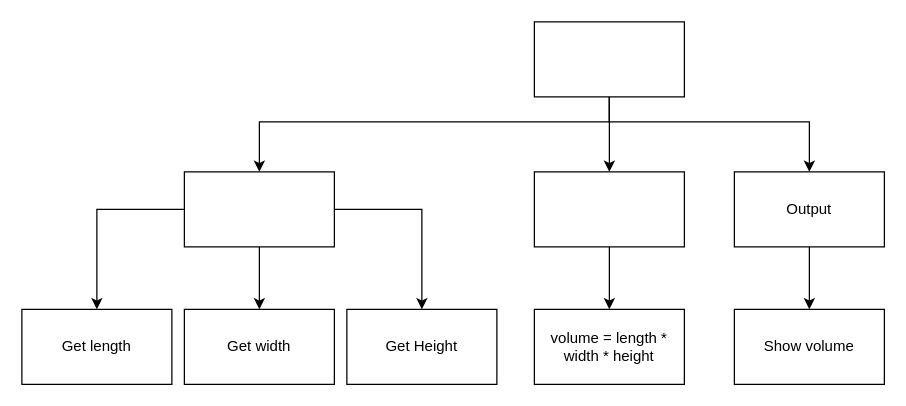
Some shapes in this 906 by 406 pixel diagram are drawn without their labels. The shapes that lost their labels are listed below. From the top down, each one's centre as x and y in pixels, then its label:
the point at 608,59: Volume of a rectangular prism
the point at 258,209: Input
the point at 608,209: Process
